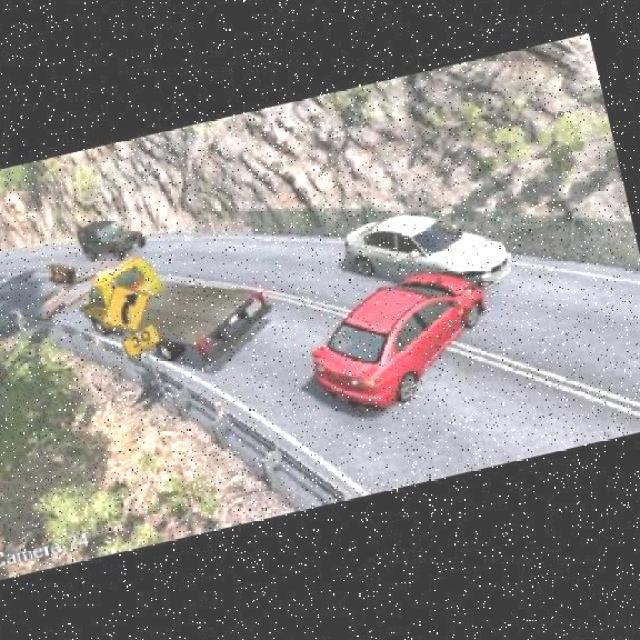accident: (373, 196, 520, 341)
